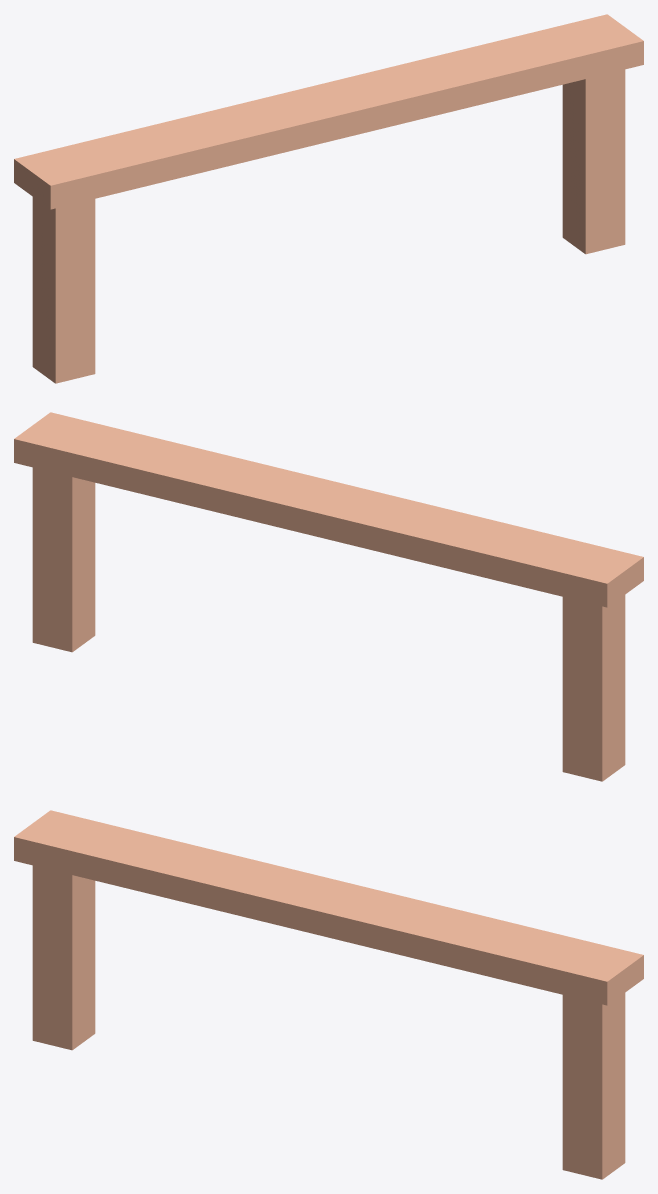
Rendered from fence_simpleHigh.glb.
3 views of the same model, one above another, from view 1: azimuth 30°, elevation 25°; view 2: azimuth 150°, elevation 25°; view 3: azimuth 330°, elevation 25° (orthographic).
Parts seen in each view (by area): view 1: fence_simpleHigh; view 2: fence_simpleHigh; view 3: fence_simpleHigh.
Boxes of the visible parts, bbox=[...] form: fence_simpleHigh: bbox=[14, 14, 643, 383]; fence_simpleHigh: bbox=[14, 412, 643, 781]; fence_simpleHigh: bbox=[14, 810, 643, 1179].
Bounding box in the file's own units: 1.04 × 0.345 × 0.1112.
